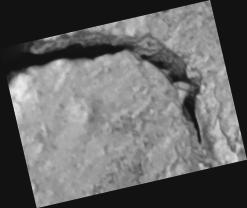crack: (1, 0, 246, 208)
